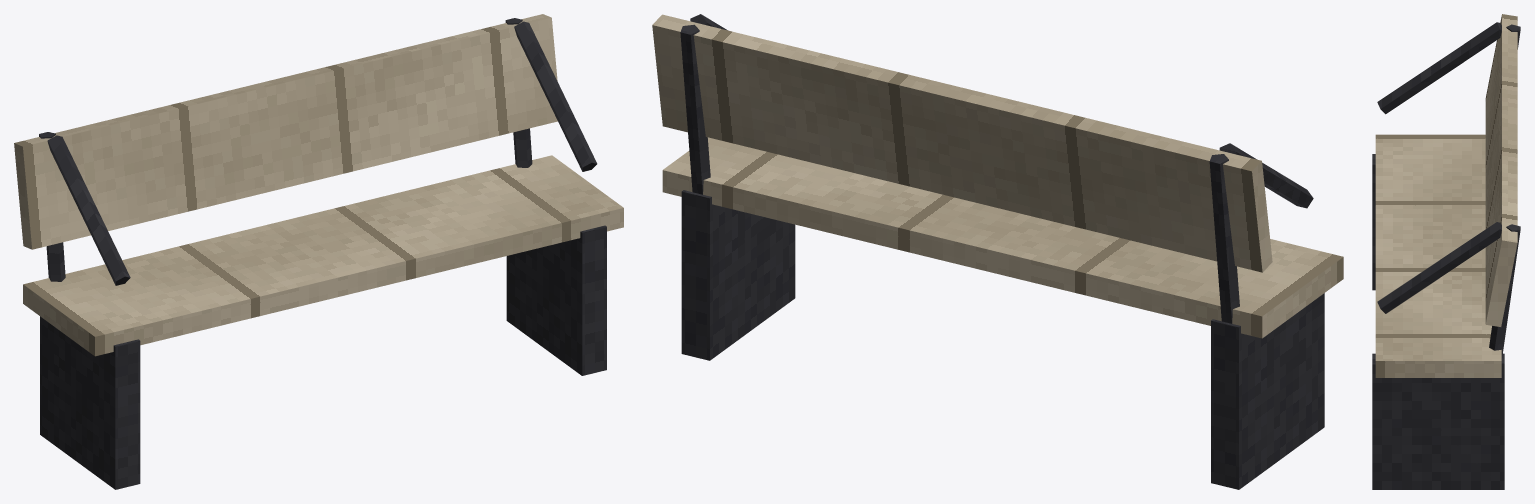
Rendered from bench.obj.
3 views of the same model, side by side, from view 1: azimuth 30°, elevation 25°; view 2: azimuth 150°, elevation 25°; view 3: azimuth 270°, elevation 25° (orthographic). The views are drawn at different scales.
Parts seen in each view (by area): view 1: bench; view 2: bench; view 3: bench.
Boxes of the visible parts, left/top/right/bottom form: bench: left=14, top=14, right=623, bottom=489; bench: left=652, top=14, right=1343, bottom=489; bench: left=1372, top=14, right=1520, bottom=489.
Bounding box in the file's own units: 1.7 × 0.9201 × 0.4701.
